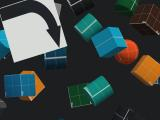Right: (0, 0, 67, 63)
